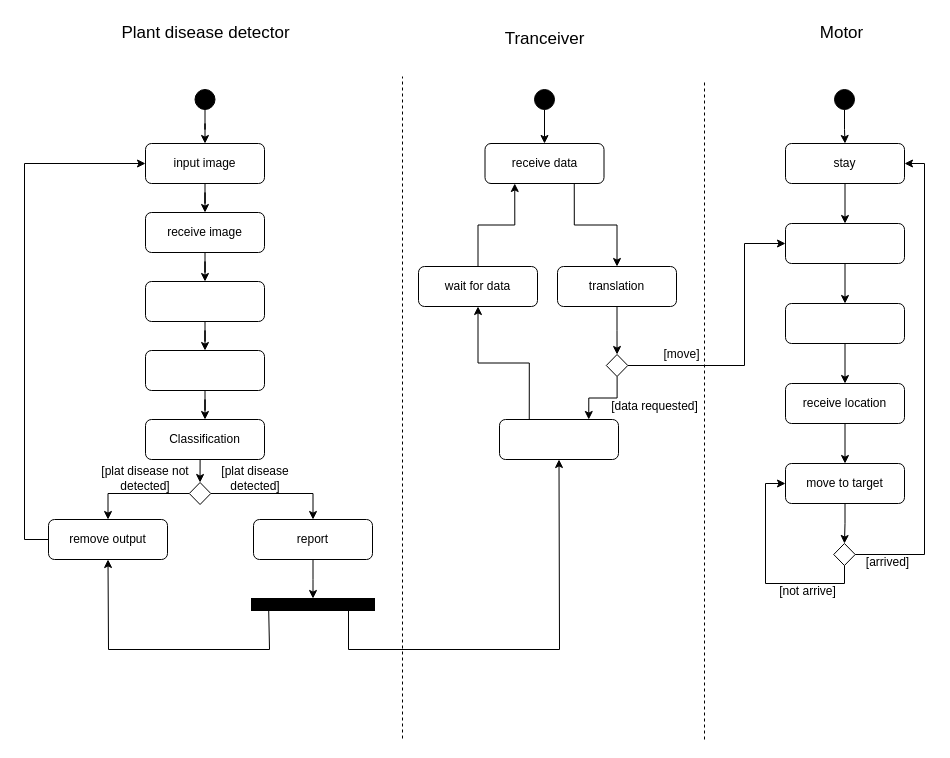
This 950x758 diagram has some shape labels left out. Each missing label, with the centre of its shape:
"Feature extraction" belongs at (204,370).
"pre- processing" belongs at (204,301).
"receive instruction" belongs at (844,243).
"request location" belongs at (844,323).
"send data" belongs at (558,439).
